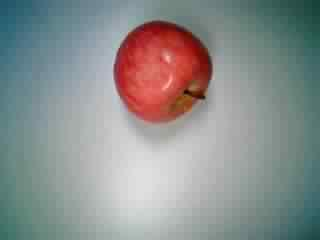apple: (107, 19, 214, 122)
